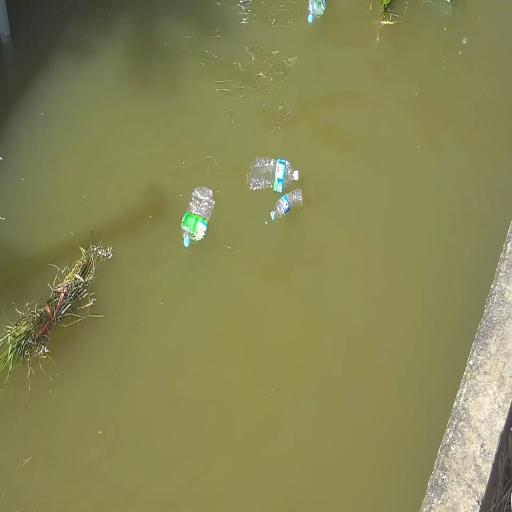plastic: (170, 176, 220, 255), (246, 155, 300, 194), (265, 184, 307, 222), (300, 0, 338, 34)
twig: (0, 226, 99, 373), (371, 0, 402, 33)
